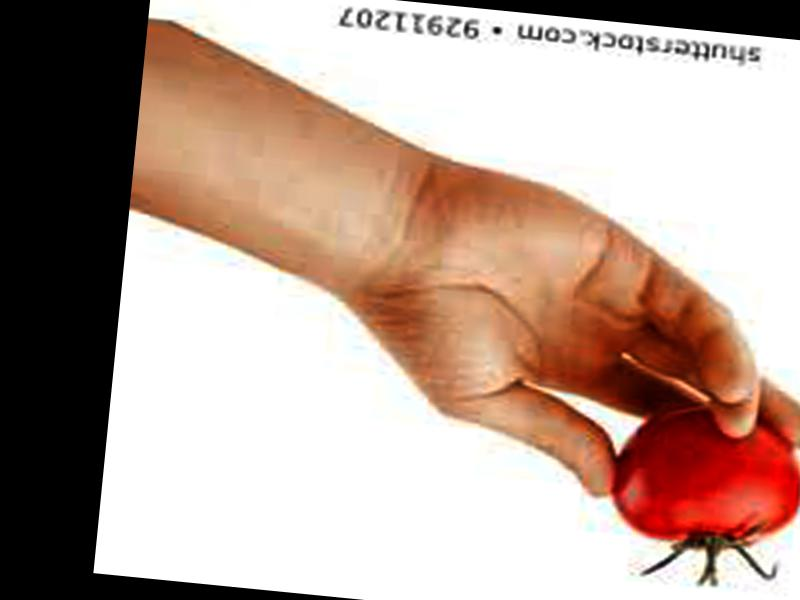Tomato: (606, 397, 800, 554)
